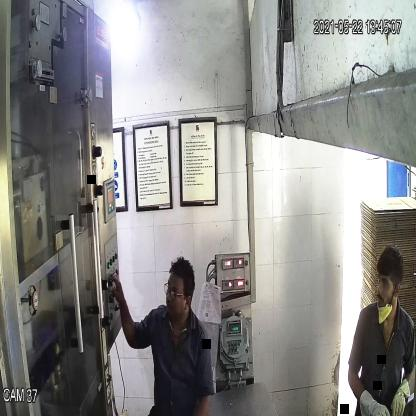goggles: (163, 280, 192, 303)
no_goggles: (374, 274, 400, 292)
